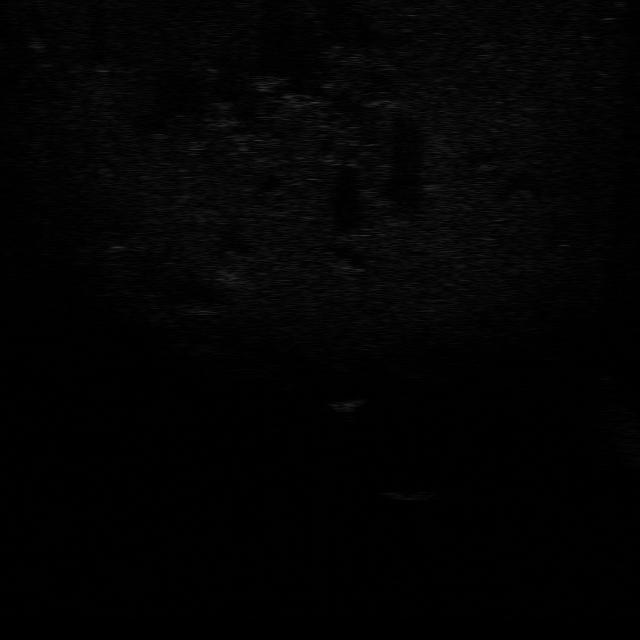cube: (380, 484, 438, 504)
square cage: (330, 396, 368, 414)
